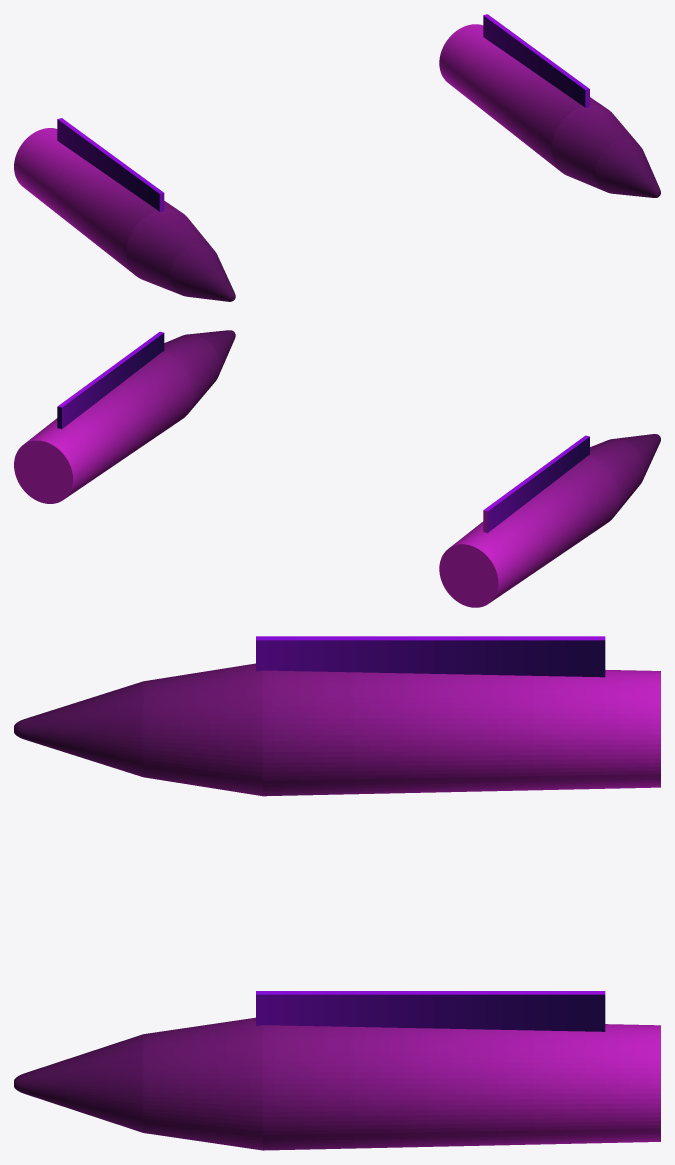
File: Rockets Coloured Solo.fbx
The picture shows the model from 3 angles, top to bottom: view 1: azimuth 30°, elevation 25°; view 2: azimuth 150°, elevation 25°; view 3: azimuth 270°, elevation 25°; orthographic projection. The views are drawn at different scales.
Parts seen in each view (by area): view 1: Rockets; view 2: Rockets; view 3: Rockets.
Boxes of the visible parts, x1,y1,x2,y2 form: Rockets: [14, 14, 660, 301]; Rockets: [14, 330, 660, 607]; Rockets: [14, 636, 660, 1150].
Bounding box in the file's own units: 315 × 54.1 × 209.
Materials: 1 (1 with a texture image).
